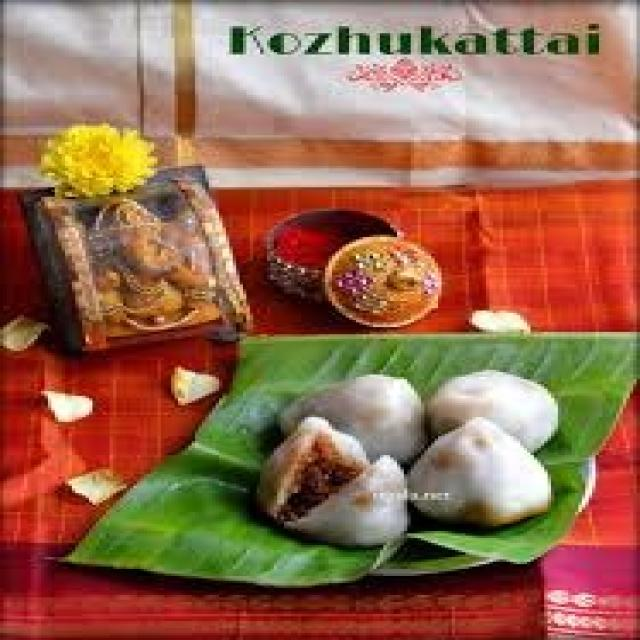poorna kolukattai: (236, 358, 605, 552)
